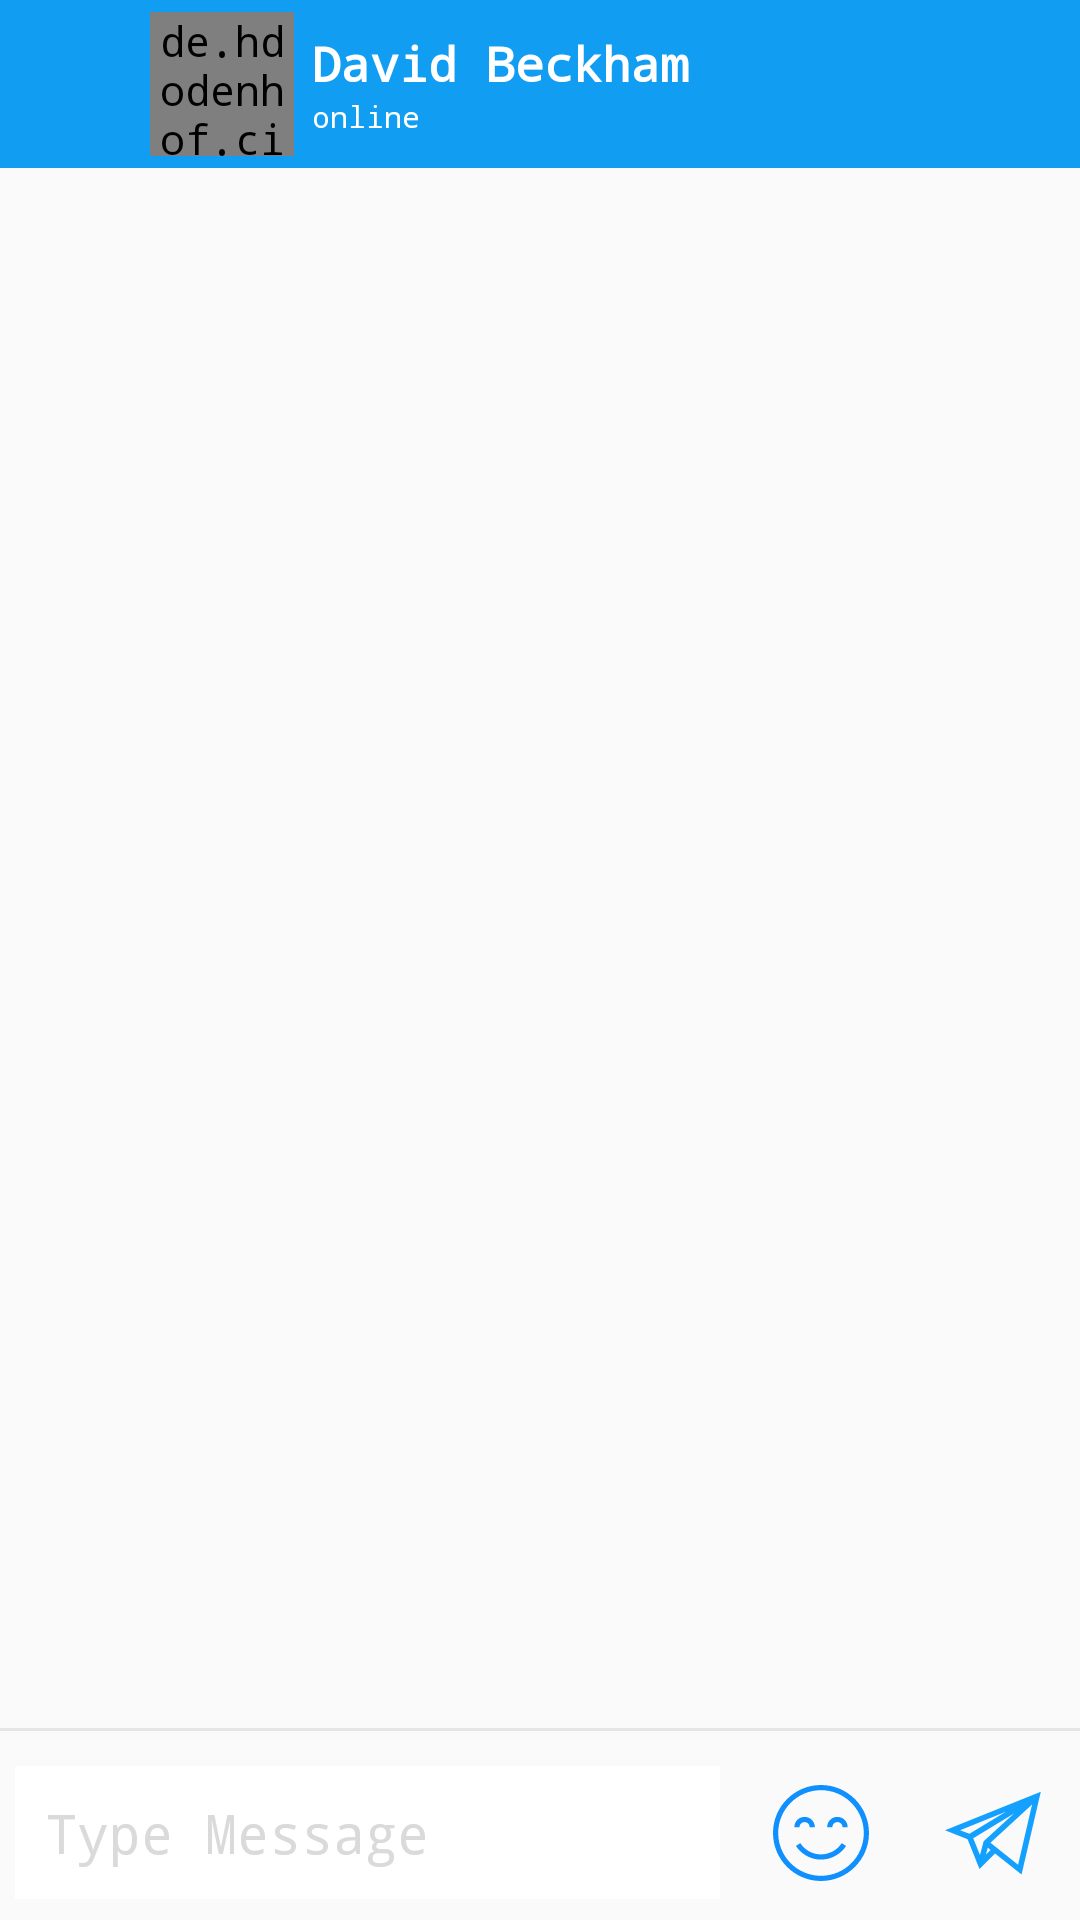

Where to tap for icons on this 1080w x 1920h app screen, as point (x, y):
smiley: point (821, 1833)
telegram: point (993, 1833)
